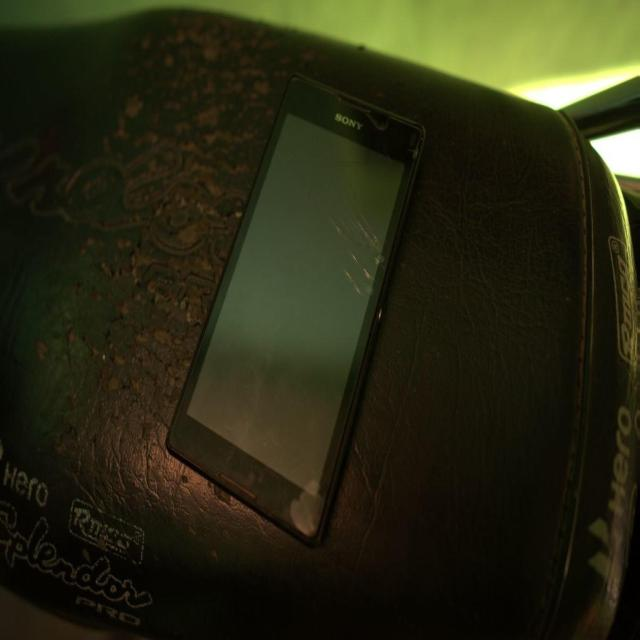Phone: (162, 65, 428, 548)
